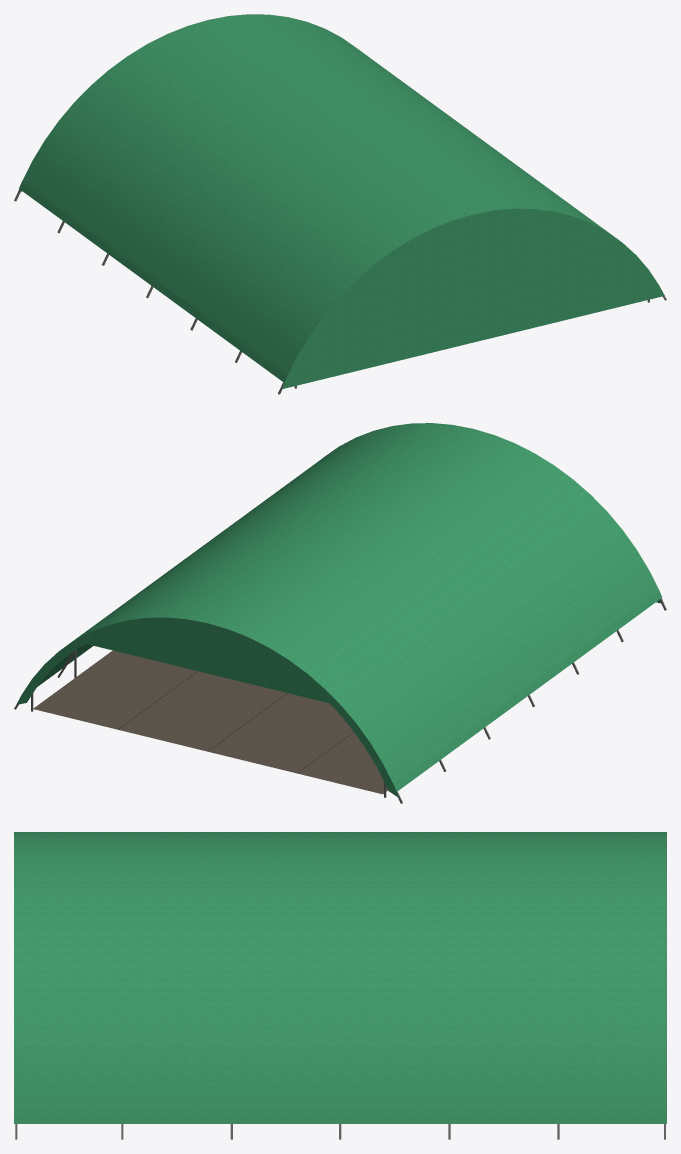
The model's file is hangar-arched-fabric-aqua-25x30-cbj_LOD00.gltf.
The picture shows the model from 3 angles, top to bottom: view 1: azimuth 30°, elevation 25°; view 2: azimuth 150°, elevation 25°; view 3: azimuth 270°, elevation 25°; orthographic projection. The views are drawn at different scales.
Parts seen in each view (by area): view 1: hanger; view 2: hanger; view 3: hanger.
Boxes of the visible parts, left/top/right/bottom form: hanger: left=14, top=14, right=666, bottom=394; hanger: left=14, top=423, right=666, bottom=803; hanger: left=14, top=832, right=666, bottom=1139.
Bounding box in the file's own units: 25.32 × 8.34 × 30.
